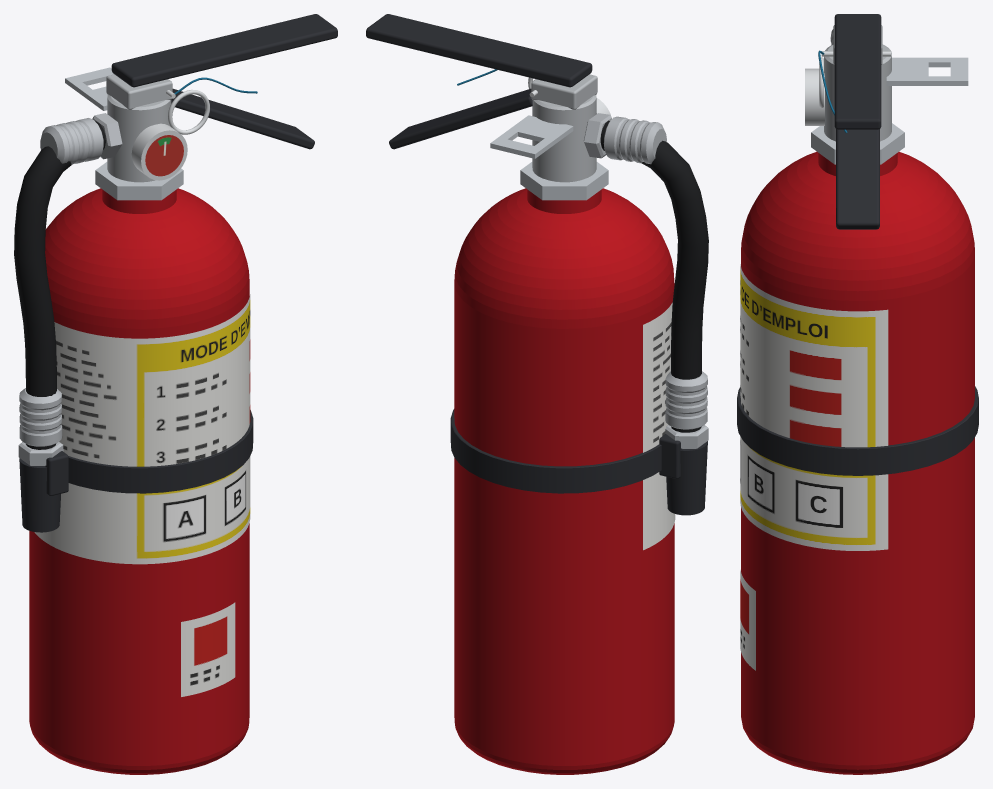
The model's file is SM_Extincteur_5lb.glb.
The picture shows the model from 3 angles, left to right: view 1: azimuth 30°, elevation 25°; view 2: azimuth 150°, elevation 25°; view 3: azimuth 270°, elevation 25°; orthographic projection. The views are drawn at different scales.
Parts seen in each view (by area): view 1: SM_Extincteur_5lb; view 2: SM_Extincteur_5lb; view 3: SM_Extincteur_5lb.
Part boxes in pixels (left/top/right/bottom): SM_Extincteur_5lb: left=14, top=14, right=337, bottom=774; SM_Extincteur_5lb: left=366, top=14, right=708, bottom=774; SM_Extincteur_5lb: left=737, top=14, right=978, bottom=774.
Bounding box in the file's own units: 0.1818 × 0.3606 × 0.1115.
11 materials, 3 textured.
